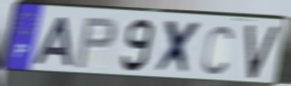9: (120, 18, 156, 74)
A: (31, 16, 74, 69)
C: (200, 23, 235, 76)
P: (74, 17, 118, 71)
V: (245, 24, 281, 81)
X: (152, 18, 204, 78)
